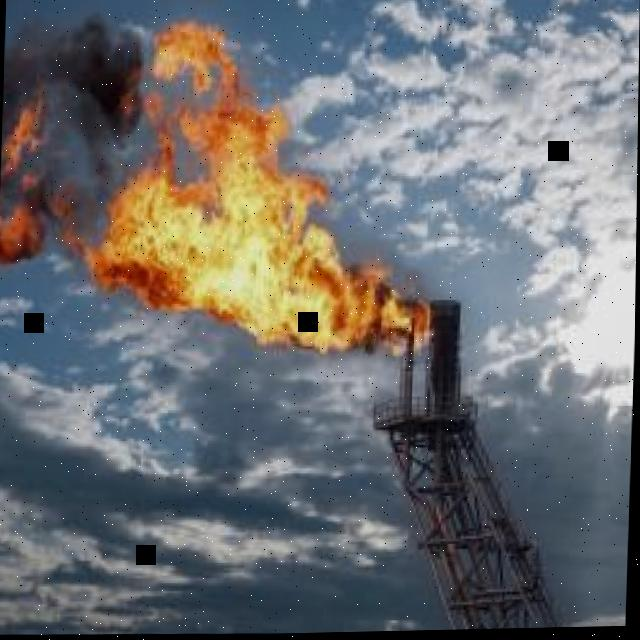fire: (64, 22, 434, 358), (1, 78, 52, 175), (0, 172, 45, 264)
smoke: (0, 12, 145, 242)
